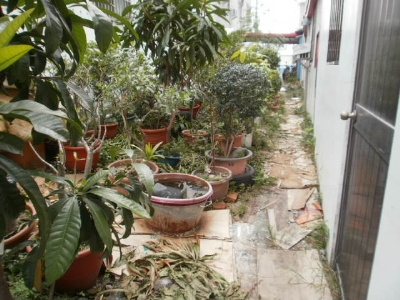bowl: (137, 171, 214, 235)
